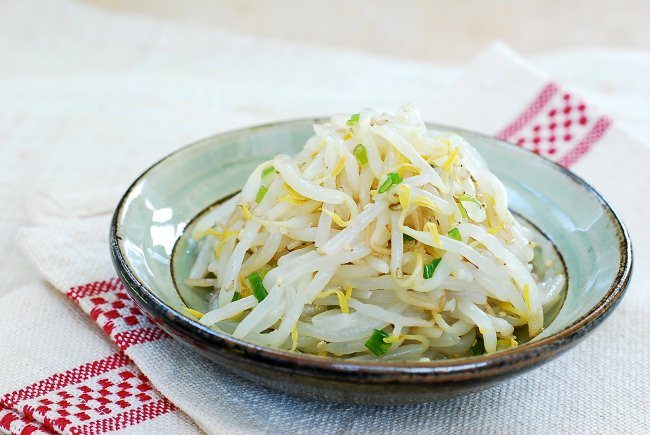mung_bean_sprouts: (250, 128, 508, 331)
